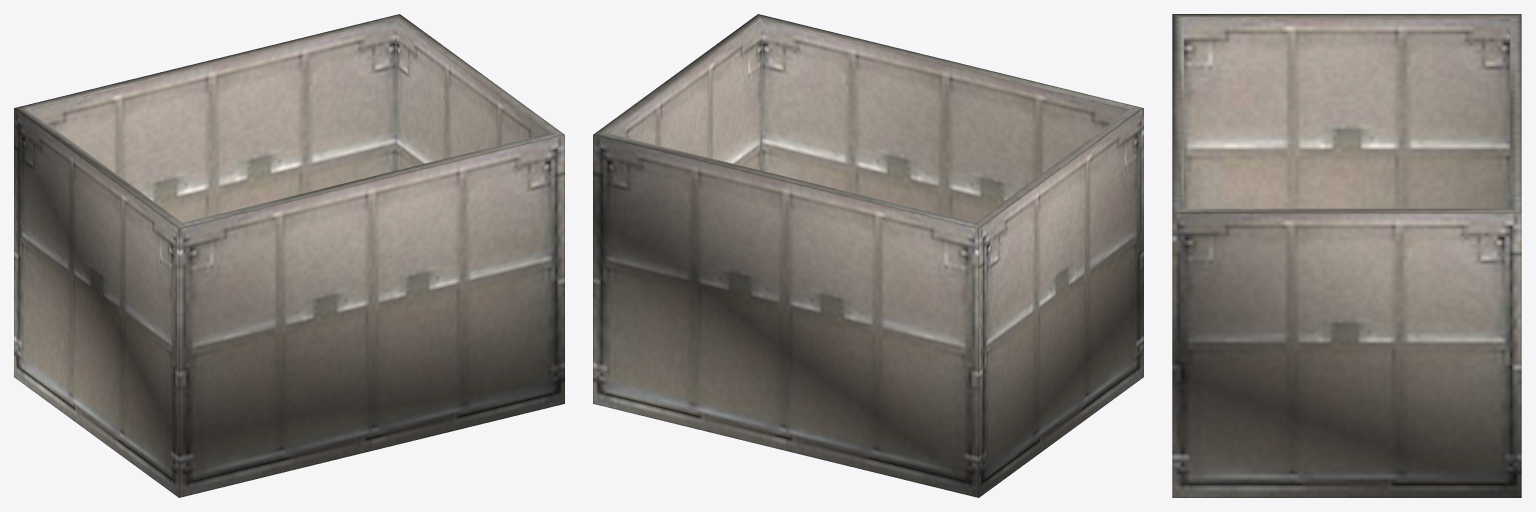
The model's file is crate.glb.
The picture shows the model from 3 angles, left to right: view 1: azimuth 30°, elevation 25°; view 2: azimuth 150°, elevation 25°; view 3: azimuth 270°, elevation 25°; orthographic projection. The views are drawn at different scales.
Parts seen in each view (by area): view 1: Crate; view 2: Crate; view 3: Crate.
Part boxes in pixels (bbox=[...]): Crate: bbox=[14, 14, 564, 497]; Crate: bbox=[593, 14, 1143, 497]; Crate: bbox=[1172, 14, 1521, 497].
Size of the model in its own units: 1.35 by 0.9 by 1.
Materials: 1 (1 with a texture image).
